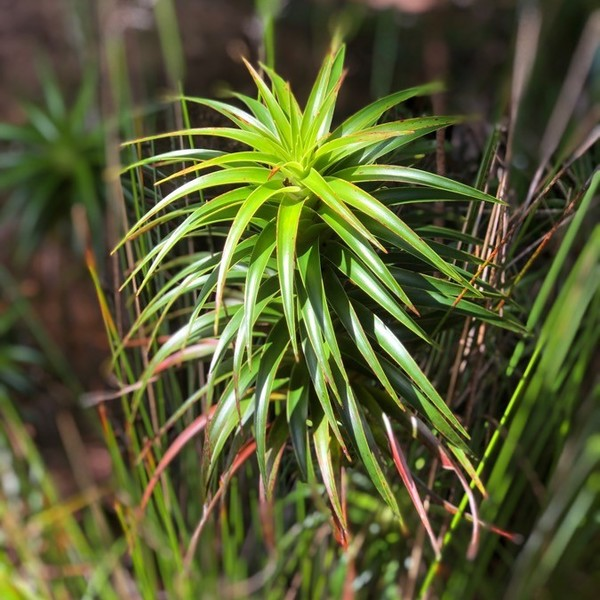obstacle: (104, 56, 504, 529)
